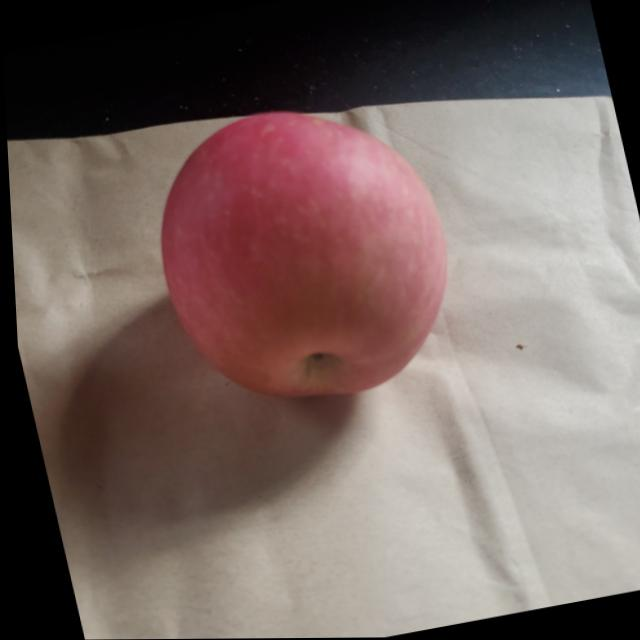apple: (128, 84, 477, 429)
